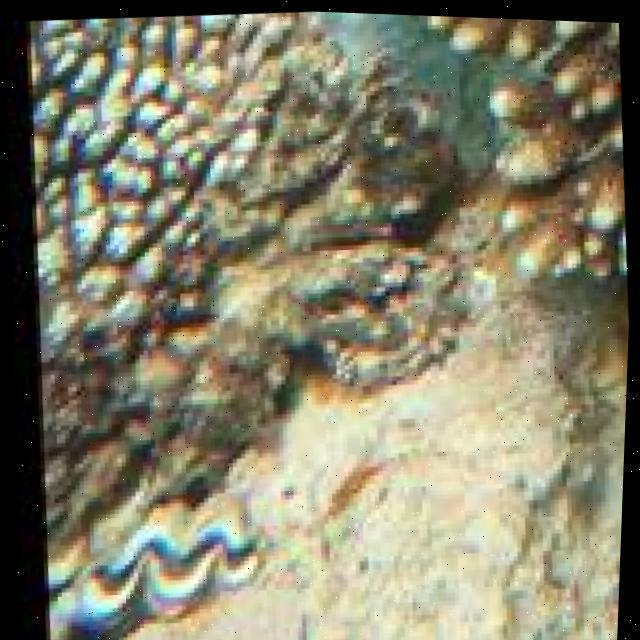Healthy Coral: (412, 14, 640, 279)
